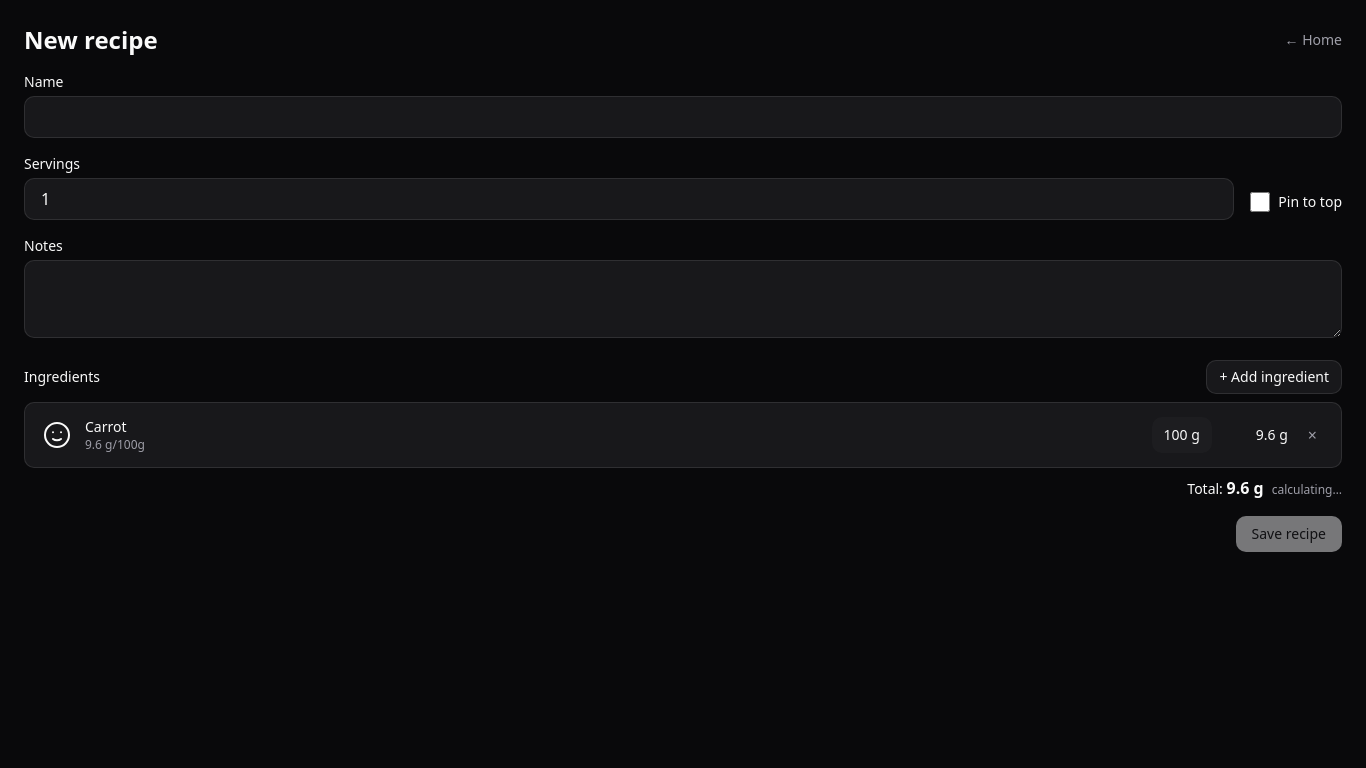
RecipeBuilder — new mode with seed › opens WeightModal, lets user edit grams, updates the row + total
Check: the text "Carrot" is shown, box [85, 417, 126, 436]
Click the button named "edit weight for carrot" at coordinates (1182, 435), box [1152, 417, 1212, 453]
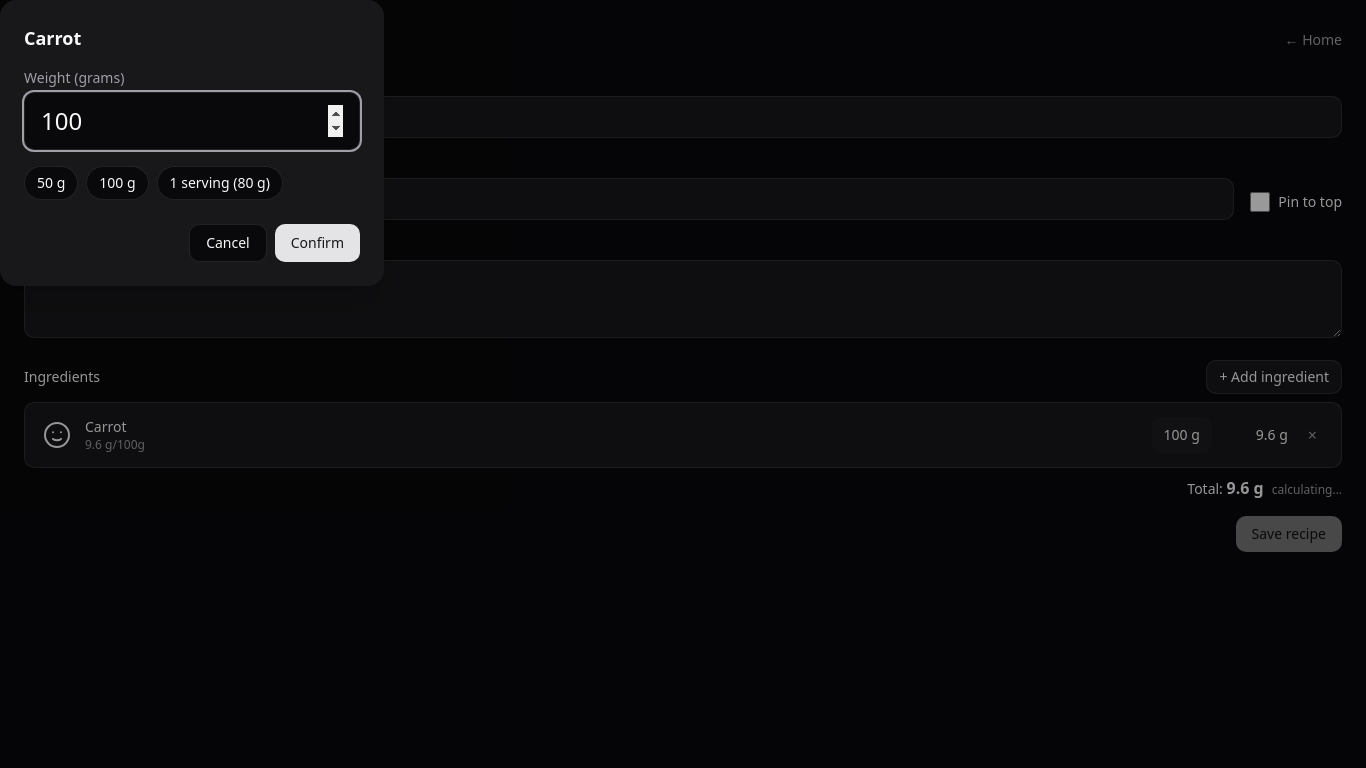
Replace the text in the number field labelled "Weight (grams)" with "150" at coordinates (192, 121), box [24, 92, 360, 150]
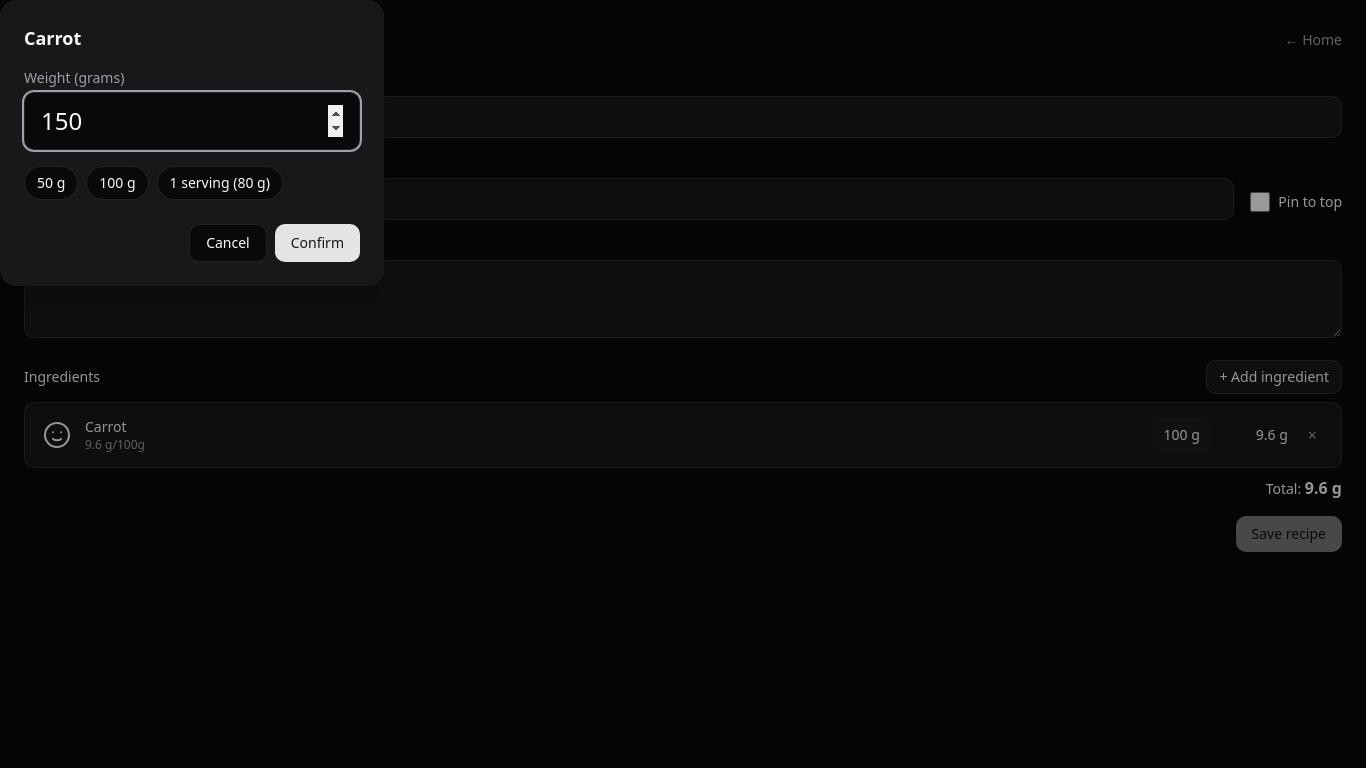
Click the button "Confirm" at coordinates (317, 243), box [275, 224, 360, 262]
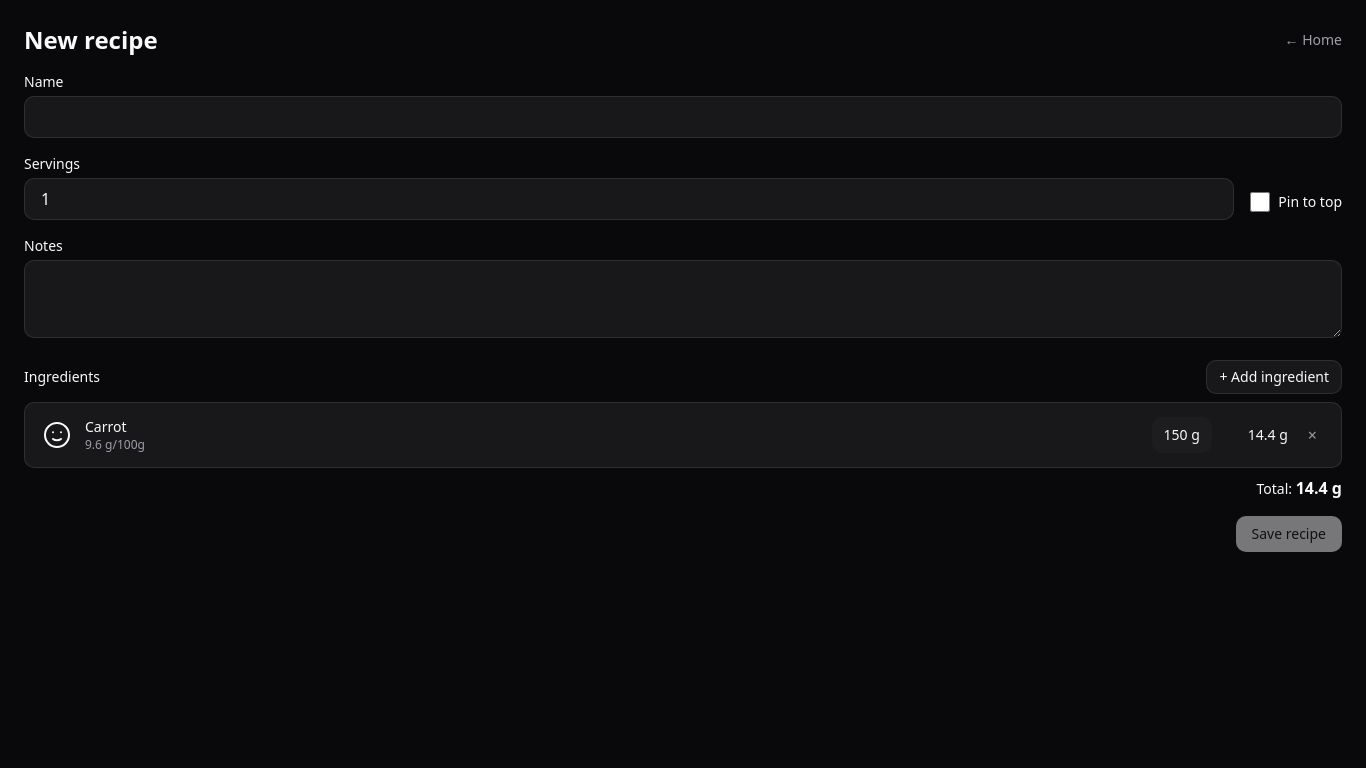
Check: the element with test id "carb-total" shows "14.4 g", box [1256, 477, 1342, 499]
